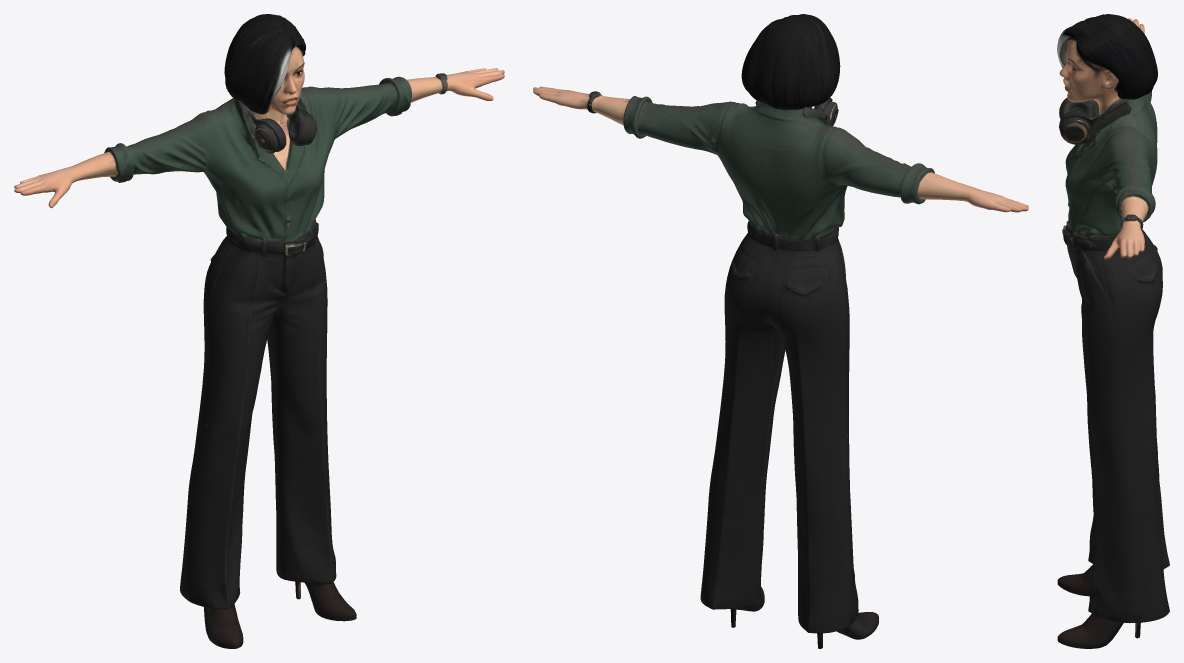
File: lobby_placeholder.gltf
The picture shows the model from 3 angles, left to right: view 1: azimuth 30°, elevation 25°; view 2: azimuth 150°, elevation 25°; view 3: azimuth 270°, elevation 25°; orthographic projection.
Visible parts, largest first — view 1: lobby_placeholder; view 2: lobby_placeholder; view 3: lobby_placeholder.
Boxes of the visible parts, bbox=[...] form: lobby_placeholder: bbox=[14, 14, 504, 648]; lobby_placeholder: bbox=[533, 14, 1028, 648]; lobby_placeholder: bbox=[1057, 14, 1169, 648].
Size of the model in its own units: 1.61 by 1.9 by 0.3239.
1 material, 1 textured.
